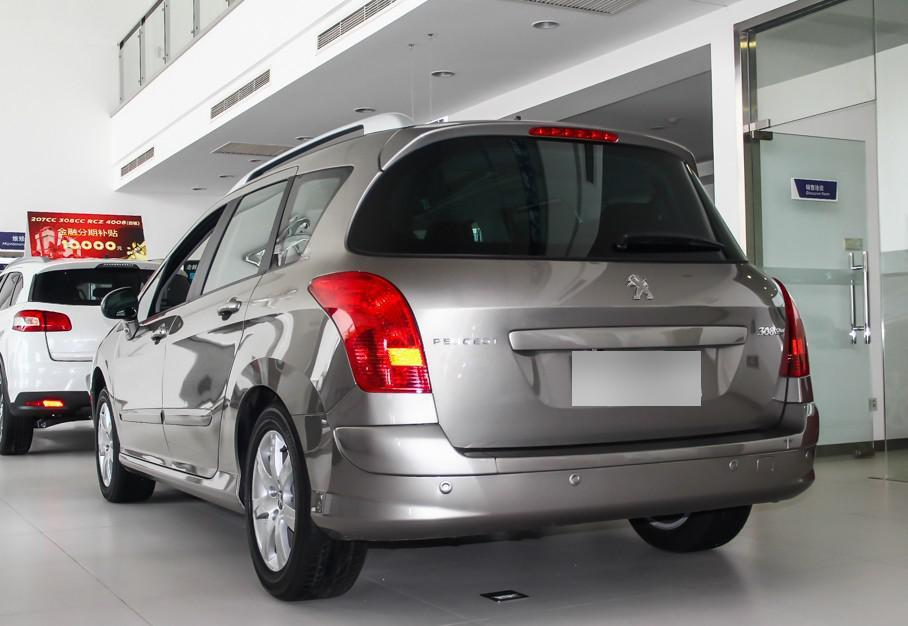Wagon: (89, 110, 821, 602)
